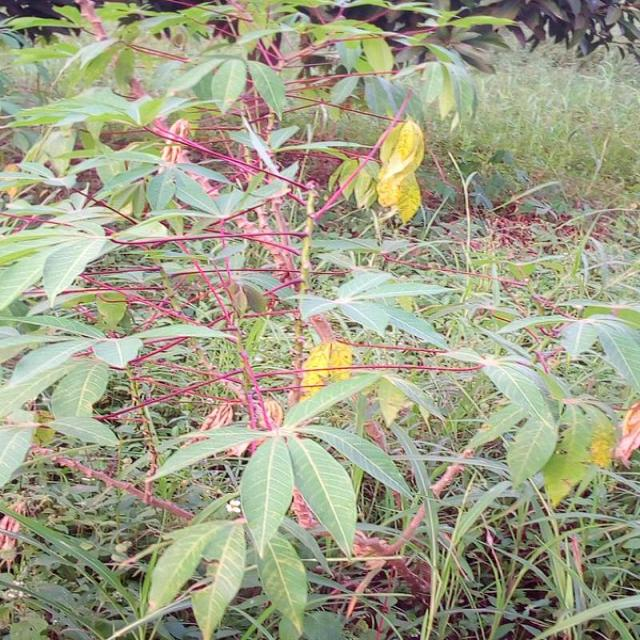cassava leaf: (286, 432, 357, 559), (239, 433, 294, 558)
